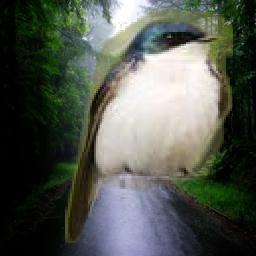Swallow: (65, 9, 233, 243)
